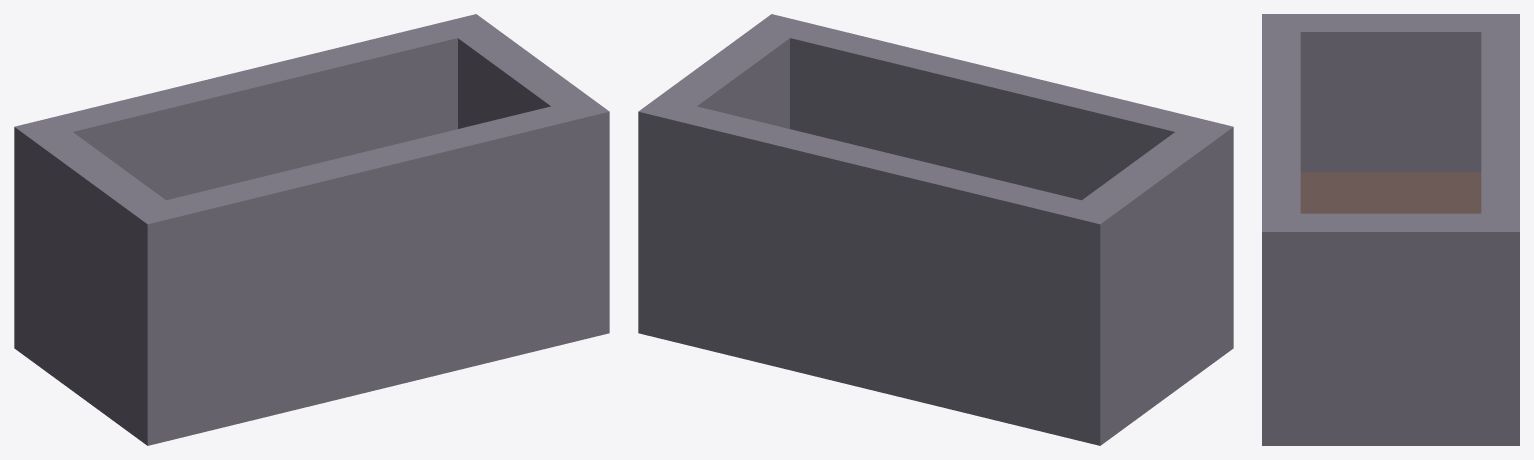
File: planter-intact.glb
3 renders of one model, left to right at view 1: azimuth 30°, elevation 25°; view 2: azimuth 150°, elevation 25°; view 3: azimuth 270°, elevation 25°, orthographic. The views are drawn at different scales.
Parts seen in each view (by area): view 1: side-1, end--1, side--1, end-1, base; view 2: side--1, end--1, side-1, base, end-1; view 3: end-1, end--1, base, soil, side--1, side-1.
Boxes of the visible parts, bbox=[...] form: side-1: bbox=[166, 106, 571, 434]; end--1: bbox=[14, 117, 186, 445]; side--1: bbox=[53, 23, 457, 200]; end-1: bbox=[438, 14, 609, 342]; base: bbox=[14, 297, 609, 445]; side--1: bbox=[676, 106, 1081, 418]; end--1: bbox=[1061, 117, 1233, 445]; side-1: bbox=[790, 23, 1194, 200]; base: bbox=[638, 297, 1233, 445]; end-1: bbox=[638, 14, 809, 334]; end-1: bbox=[1262, 213, 1519, 445]; end--1: bbox=[1262, 14, 1519, 172]; base: bbox=[1262, 411, 1519, 445]; soil: bbox=[1300, 172, 1481, 213]; side--1: bbox=[1481, 32, 1519, 213]; side-1: bbox=[1262, 32, 1300, 213].
Bounding box in the file's own units: 2.4 × 1.1 × 1.2.
